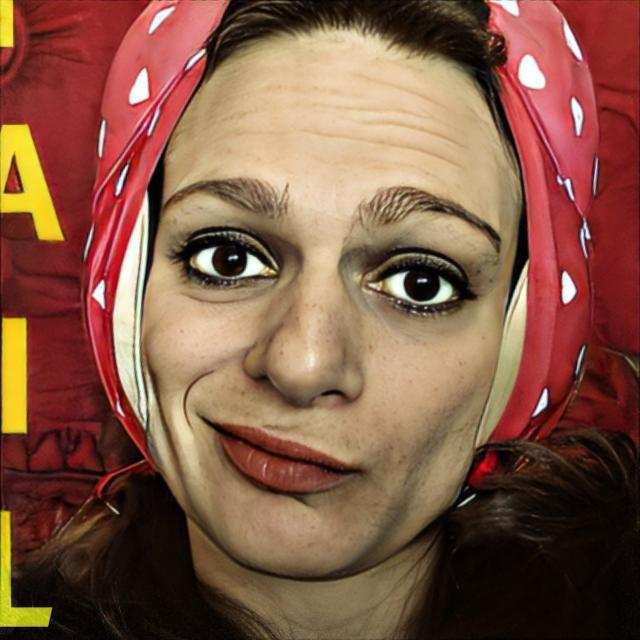content: (136, 21, 523, 582)
